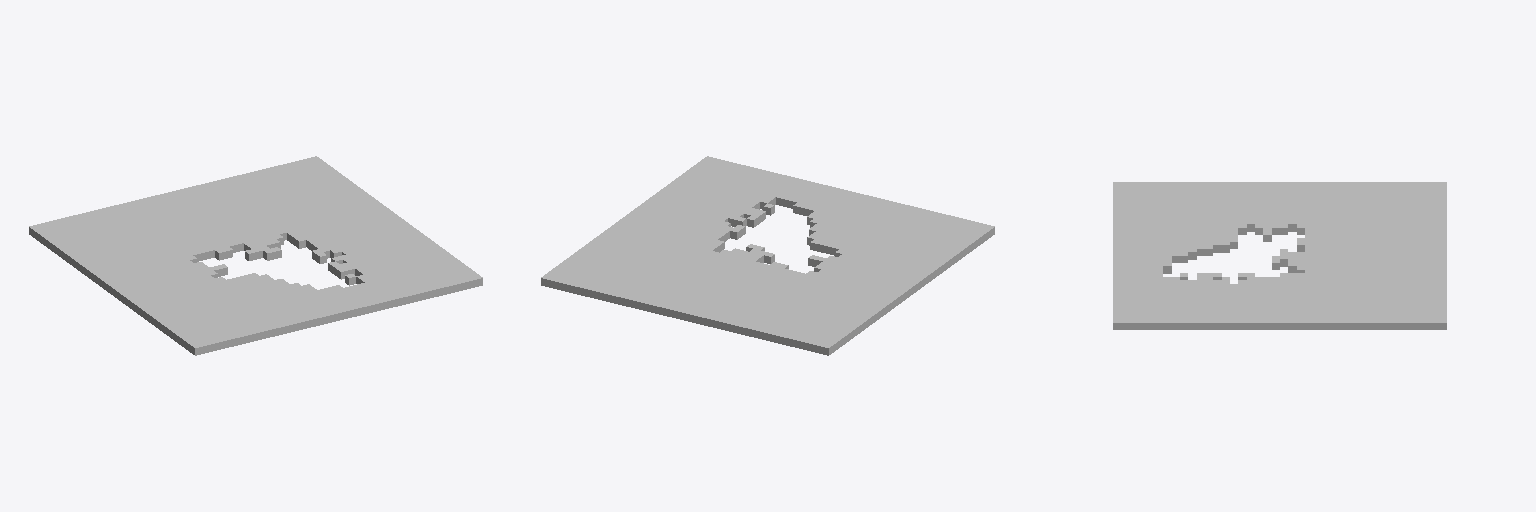
Rendered from Sol troué.obj.
3 views of the same model, side by side, from view 1: azimuth 30°, elevation 25°; view 2: azimuth 150°, elevation 25°; view 3: azimuth 270°, elevation 25° (orthographic).
Visible parts, largest first — view 1: object 1; view 2: object 1; view 3: object 1.
Part boxes in pixels (x1,y1,x2,y2): object 1: (29,156,482,355); object 1: (541,156,994,355); object 1: (1113,182,1446,329).
Bounding box in the file's own units: 4 × 0.1 × 4.